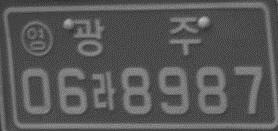0: (20, 67, 52, 115)
6: (56, 67, 87, 115)
7: (233, 65, 263, 116)
8: (195, 66, 229, 116), (120, 67, 153, 115)
9: (157, 66, 190, 115)
광주_D: (73, 17, 201, 59)
라: (90, 71, 116, 111)
영: (19, 19, 54, 57)
